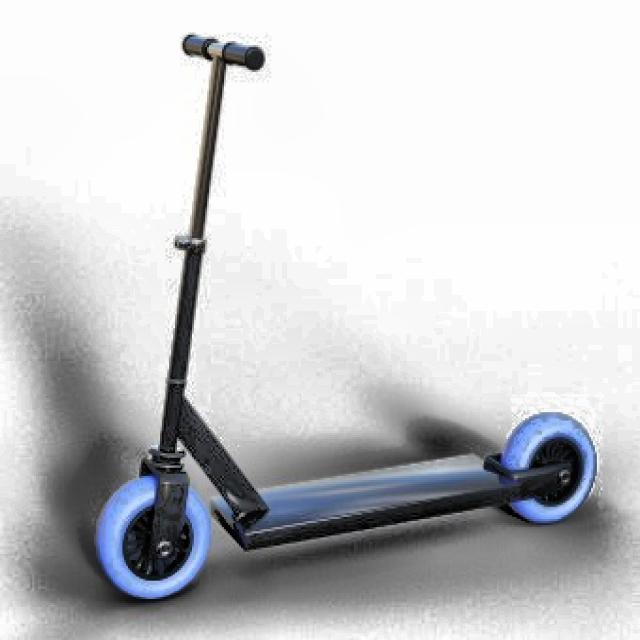bike: (94, 34, 605, 604)
